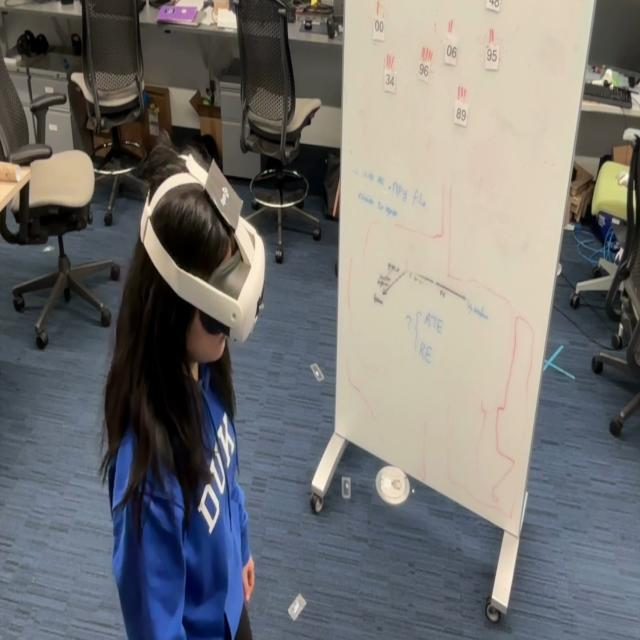Headset: (138, 152, 266, 344)
UnityLogo: (203, 155, 244, 233)
